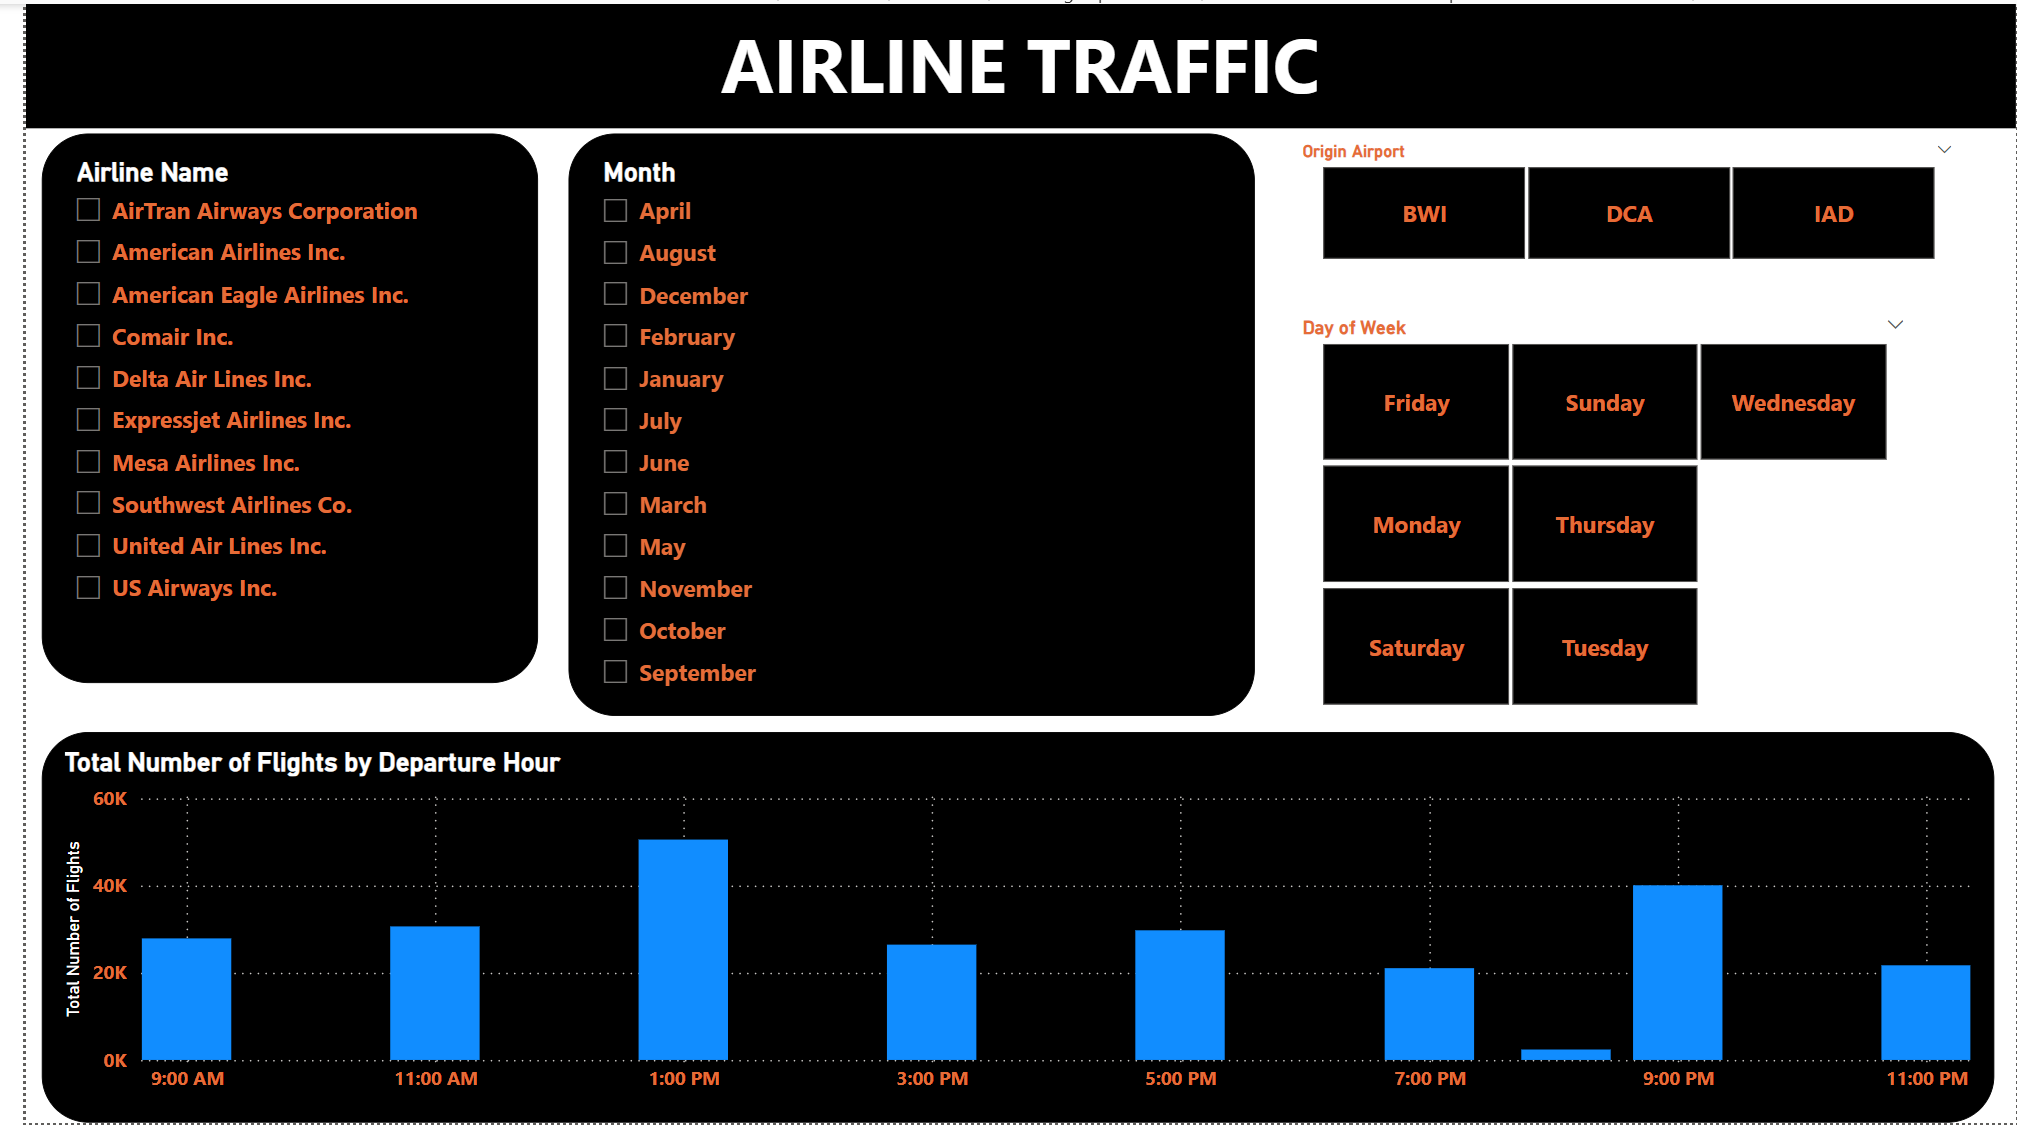

This screenshot's page, from the dashboard's own definition file:
{"tool":"powerbi","page":{"name":"Page 2","canvas":[1280,720],"ordinal":1},"visuals":[{"type":"textbox","box":[0,0,1279.8,80.3],"z":0},{"type":"slicer","fields":{"Values":["Sheet1.Airline Name"]},"box":[10.4,83.2,319.6,353.8],"z":1},{"type":"slicer","fields":{"Values":["Sheet1.Origin Airport"]},"box":[808.6,83.2,442.9,87.7],"z":2},{"type":"slicer","fields":{"Values":["Sheet1.Day of Week"]},"box":[808.6,196.2,411.7,261.6],"z":3},{"type":"slicer","fields":{"Values":["Sheet1.Month"]},"box":[349.3,83.2,441.5,374.6],"z":4},{"type":"columnChart","fields":{"Y":["Sum(Sheet1.Number of Flights)"],"Category":["Sheet1.Departure Hour"]},"box":[10.4,468.2,1256,251.2],"z":5}]}

Visuals, with their boxes in screenshot pixels (x1, y1, x2, y2), scaled from the page's 1280x720 canvas onto the 2017x1125 screenshot:
textbox: (0, 0, 2016, 125)
slicer - Sheet1.Airline Name: (16, 130, 520, 683)
slicer - Sheet1.Origin Airport: (1274, 130, 1972, 267)
slicer - Sheet1.Day of Week: (1274, 307, 1923, 715)
slicer - Sheet1.Month: (550, 130, 1246, 715)
columnChart - Sum(Sheet1.Number of Flights) x Sheet1.Departure Hour: (16, 732, 1996, 1124)
